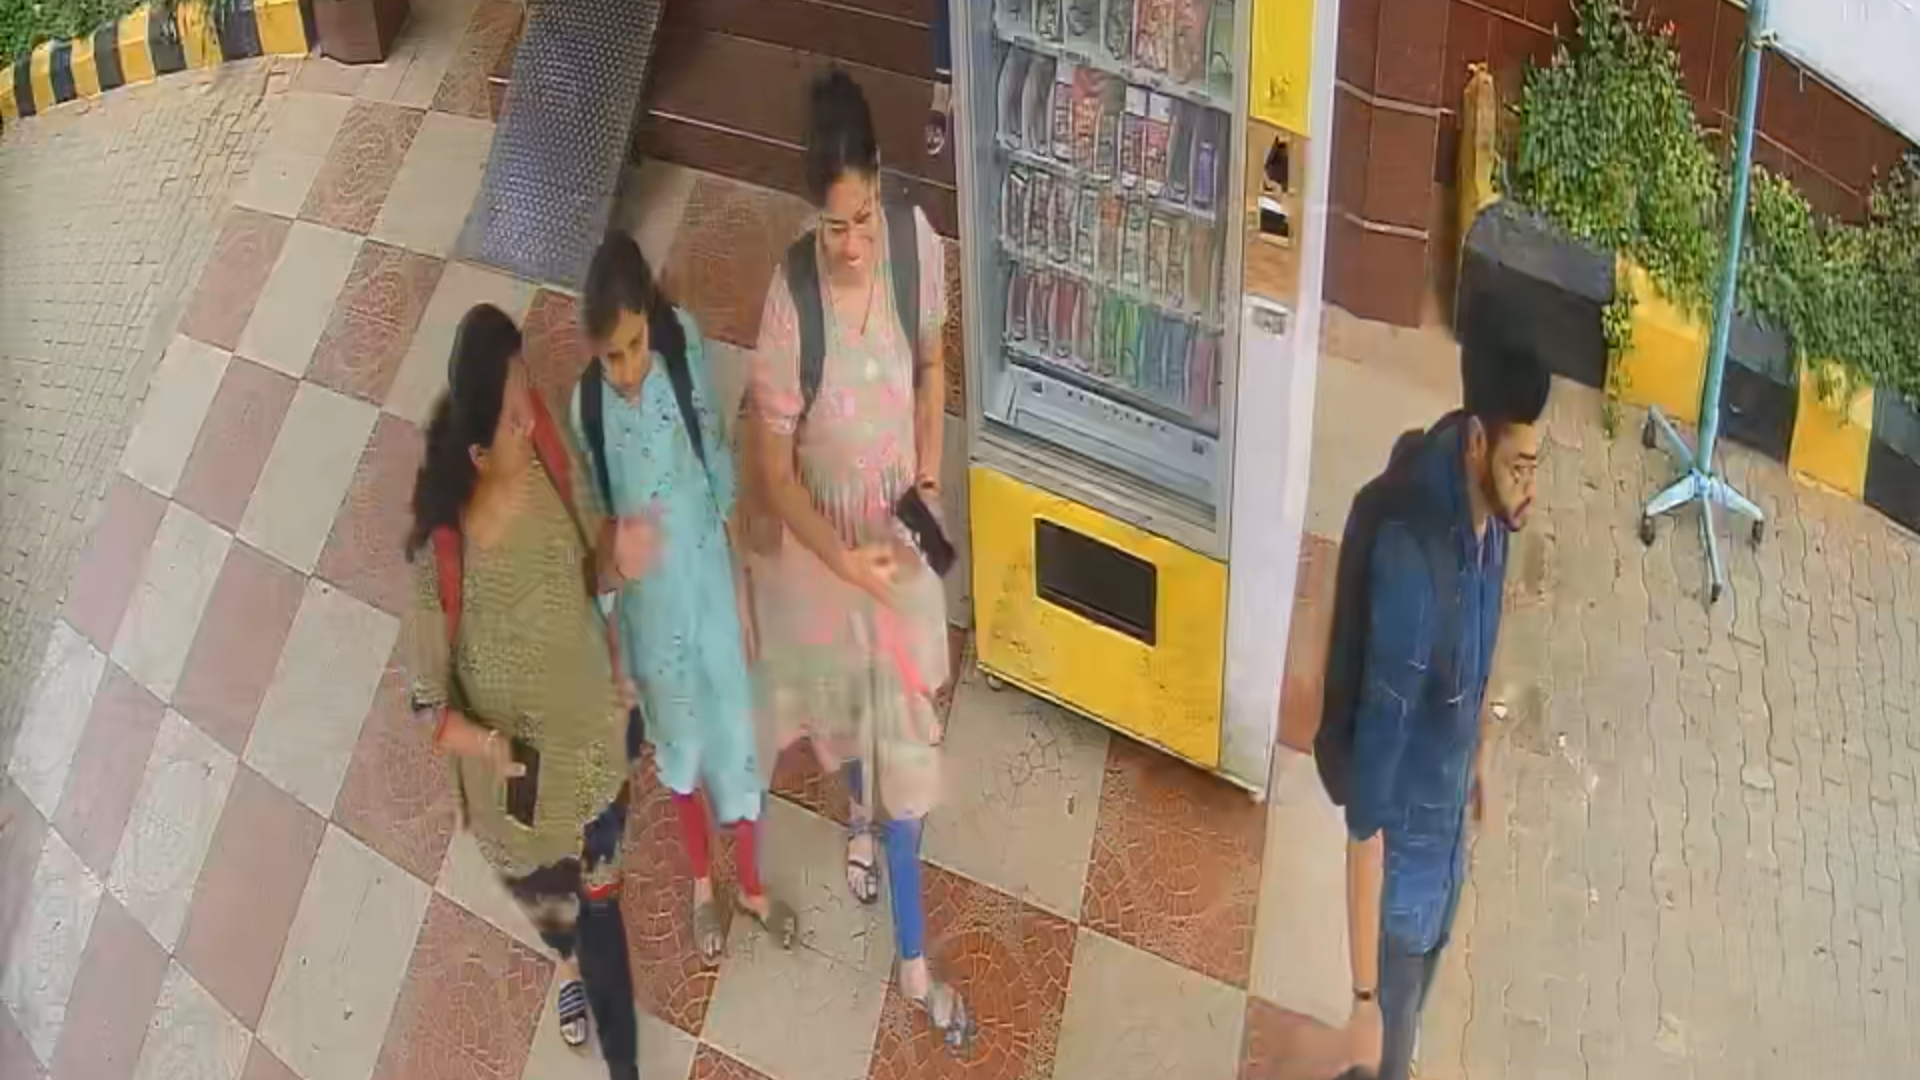intruder: (750, 69, 997, 1048), (415, 289, 659, 1080), (556, 237, 808, 986), (1333, 299, 1553, 1052)
